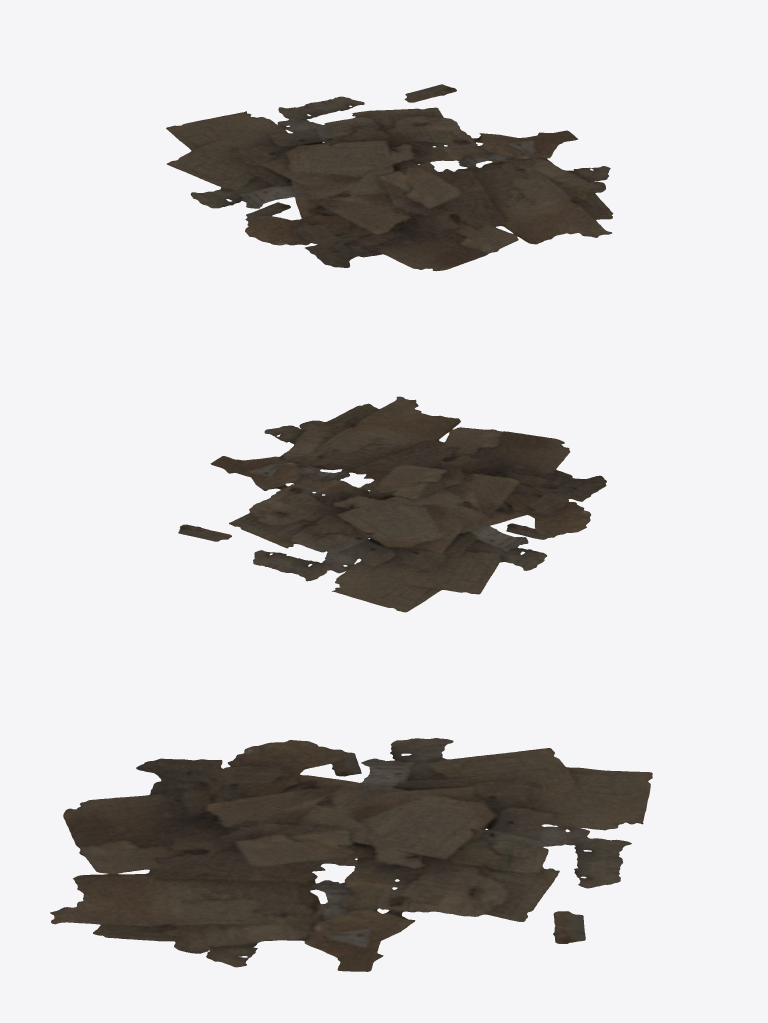
The model's file is trash_5.obj.
The picture shows the model from 3 angles, top to bottom: view 1: azimuth 30°, elevation 25°; view 2: azimuth 150°, elevation 25°; view 3: azimuth 270°, elevation 25°; orthographic projection. The views are drawn at different scales.
Parts seen in each view (by area): view 1: trash_5; view 2: trash_5; view 3: trash_5.
Part boxes in pixels (x1,y1,x2,y2): trash_5: [166, 84, 613, 271]; trash_5: [178, 396, 606, 612]; trash_5: [50, 738, 652, 971].
Size of the model in its own units: 1 by 0.0147 by 1.
